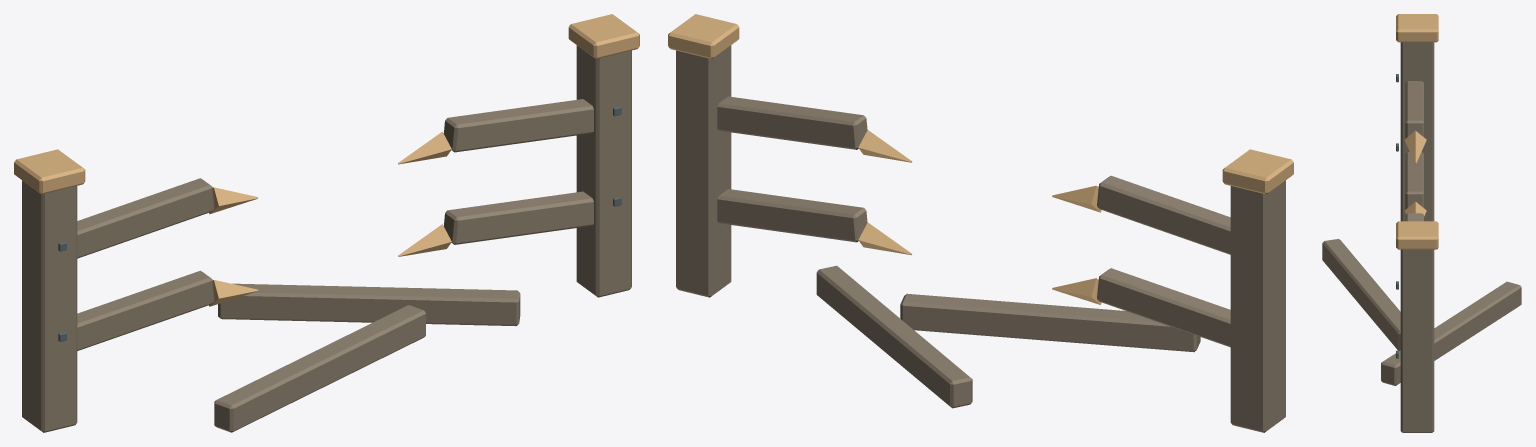
Rendered from chapter_rescue_fence.glb.
3 renders of one model, left to right at view 1: azimuth 30°, elevation 25°; view 2: azimuth 150°, elevation 25°; view 3: azimuth 270°, elevation 25°, orthographic. The views are drawn at different scales.
Visible parts, largest first — view 1: Weathered fence upright, Weathered fence upright.001, Fallen removable rail.001, Fallen removable rail, Snapped fence rail.002, Snapped fence rail.003, Snapped fence rail.001, Snapped fence rail, Fence post cap, Fence post cap.001, Exposed jagged split.002, Exposed jagged split.003 (+2 smaller); view 2: Weathered fence upright, Weathered fence upright.001, Fallen removable rail, Fallen removable rail.001, Snapped fence rail.002, Snapped fence rail.003, Snapped fence rail.001, Snapped fence rail, Fence post cap, Fence post cap.001, Exposed jagged split.003, Exposed jagged split.002 (+2 smaller); view 3: Weathered fence upright.001, Weathered fence upright, Fallen removable rail.001, Fallen removable rail, Fence post cap, Fence post cap.001, Snapped fence rail.001, Snapped fence rail, Exposed jagged split.001.
Boxes of the visible parts, bbox=[...] form: Weathered fence upright: bbox=[22, 180, 77, 432]; Weathered fence upright.001: bbox=[576, 45, 631, 297]; Fallen removable rail.001: bbox=[218, 283, 520, 326]; Fallen removable rail: bbox=[214, 305, 425, 432]; Snapped fence rail.002: bbox=[444, 191, 593, 244]; Snapped fence rail.003: bbox=[443, 99, 593, 152]; Snapped fence rail.001: bbox=[77, 178, 214, 258]; Snapped fence rail: bbox=[77, 270, 214, 350]; Fence post cap: bbox=[14, 149, 85, 194]; Fence post cap.001: bbox=[568, 14, 639, 58]; Exposed jagged split.002: bbox=[398, 224, 451, 256]; Exposed jagged split.003: bbox=[398, 131, 451, 164]; Weathered fence upright: bbox=[1230, 180, 1285, 432]; Weathered fence upright.001: bbox=[676, 45, 731, 297]; Fallen removable rail: bbox=[900, 293, 1200, 352]; Fallen removable rail.001: bbox=[816, 265, 972, 408]; Snapped fence rail.002: bbox=[717, 189, 867, 242]; Snapped fence rail.003: bbox=[717, 96, 867, 149]; Snapped fence rail.001: bbox=[1097, 175, 1230, 254]; Snapped fence rail: bbox=[1097, 268, 1230, 347]; Fence post cap: bbox=[1222, 149, 1293, 194]; Fence post cap.001: bbox=[668, 14, 739, 58]; Exposed jagged split.003: bbox=[858, 130, 912, 162]; Exposed jagged split.002: bbox=[858, 222, 911, 255]; Weathered fence upright.001: bbox=[1400, 249, 1434, 432]; Weathered fence upright: bbox=[1400, 42, 1434, 221]; Fallen removable rail.001: bbox=[1381, 281, 1521, 385]; Fallen removable rail: bbox=[1322, 239, 1400, 350]; Fence post cap: bbox=[1396, 14, 1438, 42]; Fence post cap.001: bbox=[1396, 221, 1438, 249]; Snapped fence rail.001: bbox=[1405, 81, 1423, 138]; Snapped fence rail: bbox=[1405, 152, 1423, 209]; Exposed jagged split.001: bbox=[1404, 130, 1426, 163].
Size of the model in its own units: 2.99 by 1.23 by 1.12.
